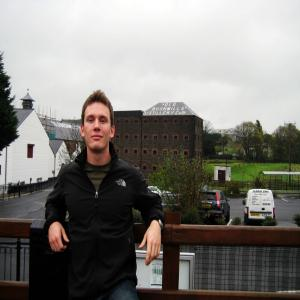Vehicle-registration-plate: (251, 214, 260, 218)
